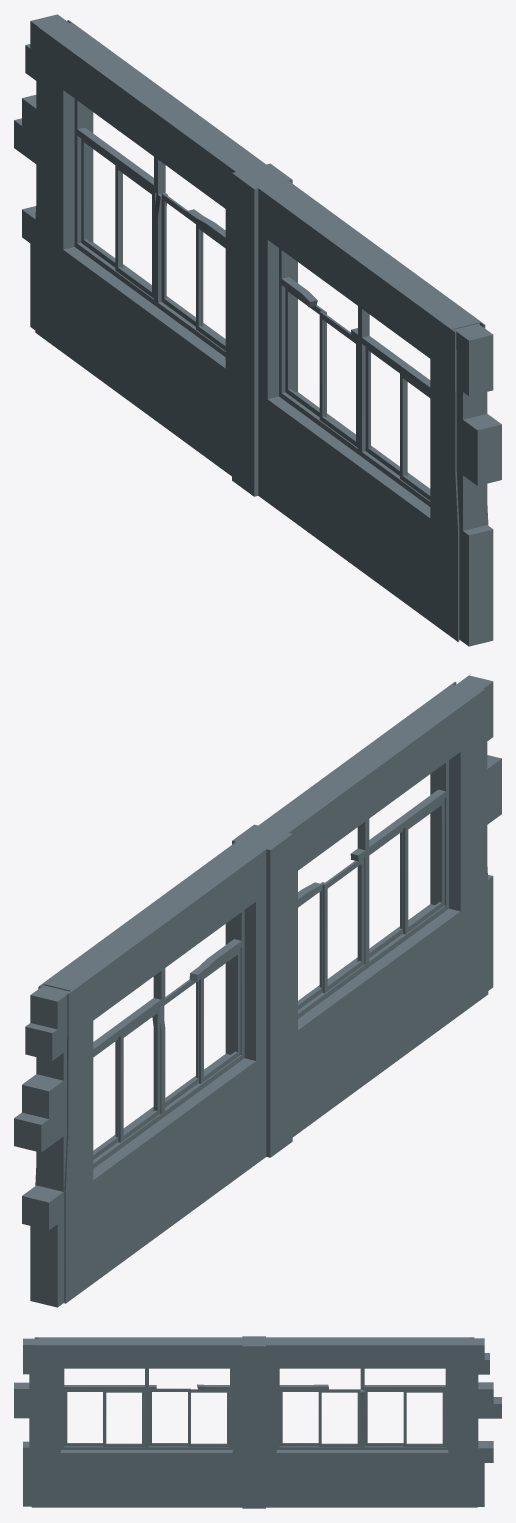
The model's file is wallsWindow1_LP.fbx.
The picture shows the model from 3 angles, top to bottom: view 1: azimuth 30°, elevation 25°; view 2: azimuth 150°, elevation 25°; view 3: azimuth 270°, elevation 25°; orthographic projection. The views are drawn at different scales.
Parts seen in each view (by area): view 1: walls_broken_1_LP, walls_broken_2_LP, walls_bricks_LP, walls_pillar_LP, window12_LP, window_LP, walls_bricks1_LP, window6_LP, window10_LP, window8_LP, window7_LP, window4_LP (+3 smaller); view 2: walls_broken_2_LP, walls_broken_1_LP, walls_bricks1_LP, walls_pillar_LP, window12_LP, window_LP, walls_bricks_LP, window6_LP, window8_LP, window5_LP, window11_LP, window10_LP; view 3: walls_broken_2_LP, walls_broken_1_LP, walls_pillar_LP, window12_LP, walls_bricks1_LP, window_LP, walls_bricks_LP, window10_LP, window9_LP, window4_LP, window7_LP, window5_LP (+3 smaller).
Part boxes in pixels (box(x1,y1,x2,y2)): walls_broken_1_LP: box(258, 181, 488, 641); walls_broken_2_LP: box(35, 20, 265, 476); walls_bricks_LP: box(454, 324, 501, 646); walls_pillar_LP: box(232, 163, 292, 496); window12_LP: box(74, 99, 225, 356); window_LP: box(279, 248, 430, 506); walls_bricks1_LP: box(14, 14, 69, 329); window6_LP: box(319, 311, 357, 447); window10_LP: box(161, 193, 203, 326); window8_LP: box(115, 163, 156, 298); window7_LP: box(285, 288, 326, 417); window4_LP: box(365, 347, 407, 476); walls_broken_2_LP: box(35, 842, 266, 1303); walls_broken_1_LP: box(258, 682, 488, 1137); walls_bricks1_LP: box(14, 985, 69, 1307); walls_pillar_LP: box(232, 824, 292, 1157); window12_LP: box(93, 910, 244, 1168); window_LP: box(298, 760, 448, 1018); walls_bricks_LP: box(455, 675, 501, 990); window6_LP: box(322, 858, 364, 993); window8_LP: box(118, 1007, 160, 1142); window5_LP: box(403, 799, 444, 934); window11_LP: box(199, 948, 240, 1083); window10_LP: box(162, 979, 198, 1107); walls_broken_2_LP: box(266, 1337, 477, 1507); walls_broken_1_LP: box(31, 1337, 242, 1507); walls_pillar_LP: box(242, 1336, 265, 1508); window12_LP: box(276, 1368, 448, 1449); walls_bricks1_LP: box(470, 1338, 501, 1506); window_LP: box(61, 1368, 232, 1449); walls_bricks_LP: box(14, 1338, 38, 1506); window10_LP: box(318, 1389, 360, 1446); window9_LP: box(403, 1390, 445, 1446); window4_LP: box(103, 1390, 144, 1446); window7_LP: box(188, 1389, 229, 1446); window5_LP: box(64, 1390, 103, 1446).
Bounding box in the file's own units: 55 × 420 × 1144.
